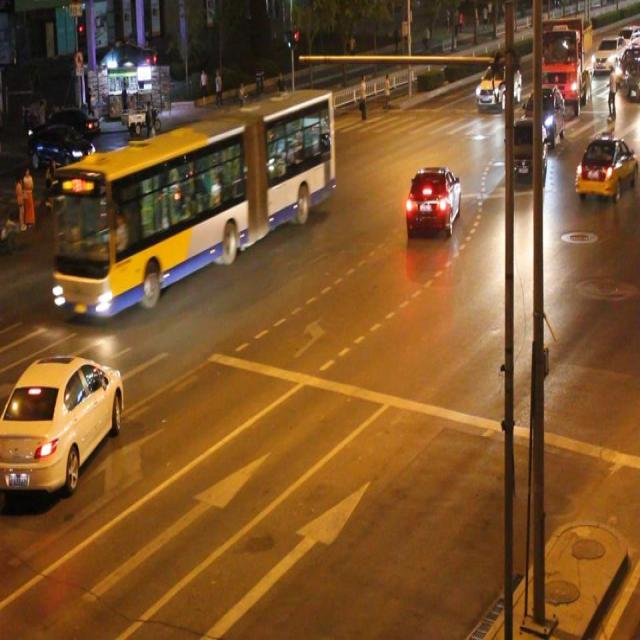car: (0, 358, 124, 494), (574, 133, 640, 200), (404, 165, 459, 240), (114, 185, 178, 245), (504, 122, 545, 186)
van: (52, 92, 335, 307)
